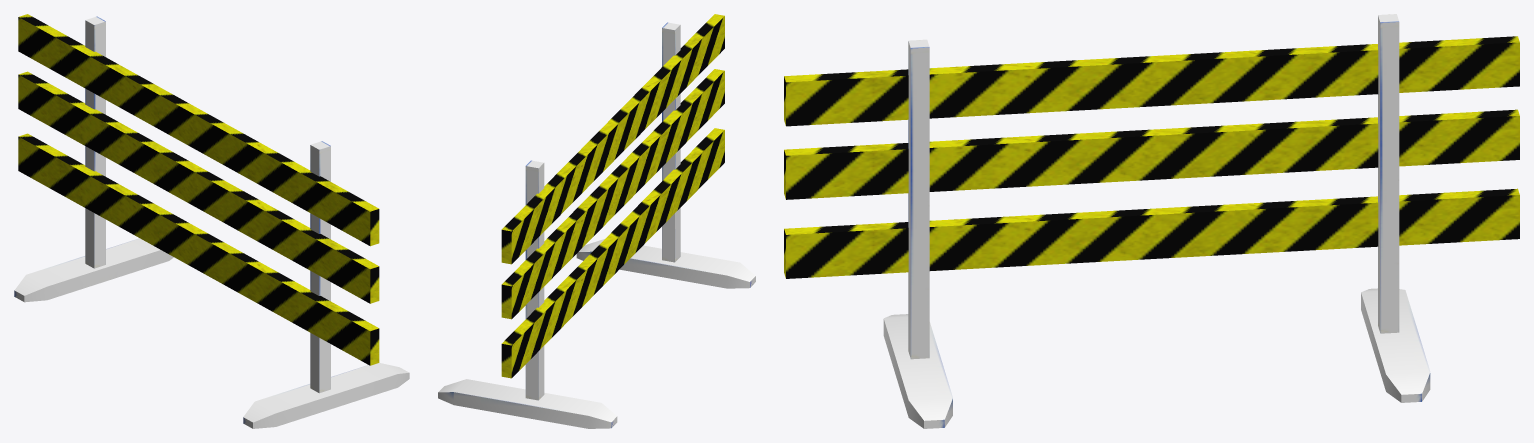
The model's file is road barrier B.FBX.
3 views of the same model, side by side, from view 1: azimuth 30°, elevation 25°; view 2: azimuth 150°, elevation 25°; view 3: azimuth 270°, elevation 25° (orthographic). The views are drawn at different scales.
Parts seen in each view (by area): view 1: Box002; view 2: Box002; view 3: Box002.
Boxes of the visible parts, <box> form: Box002: <box>14,14,409,428</box>; Box002: <box>438,14,755,428</box>; Box002: <box>784,14,1519,428</box>.
Size of the model in its own units: 14.82 by 17.14 by 34.8.
